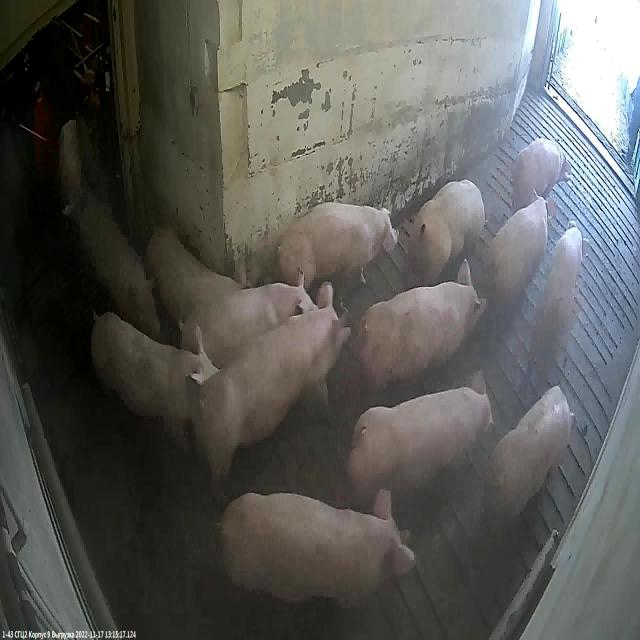pig: (195, 281, 350, 481), (220, 489, 416, 610), (347, 369, 492, 499), (91, 310, 220, 449), (359, 259, 487, 396), (182, 271, 318, 369), (486, 388, 575, 528), (80, 202, 162, 340), (279, 203, 396, 288), (485, 190, 557, 314), (150, 228, 248, 310), (412, 180, 484, 285), (532, 222, 582, 371), (516, 142, 571, 208), (60, 120, 80, 225)
